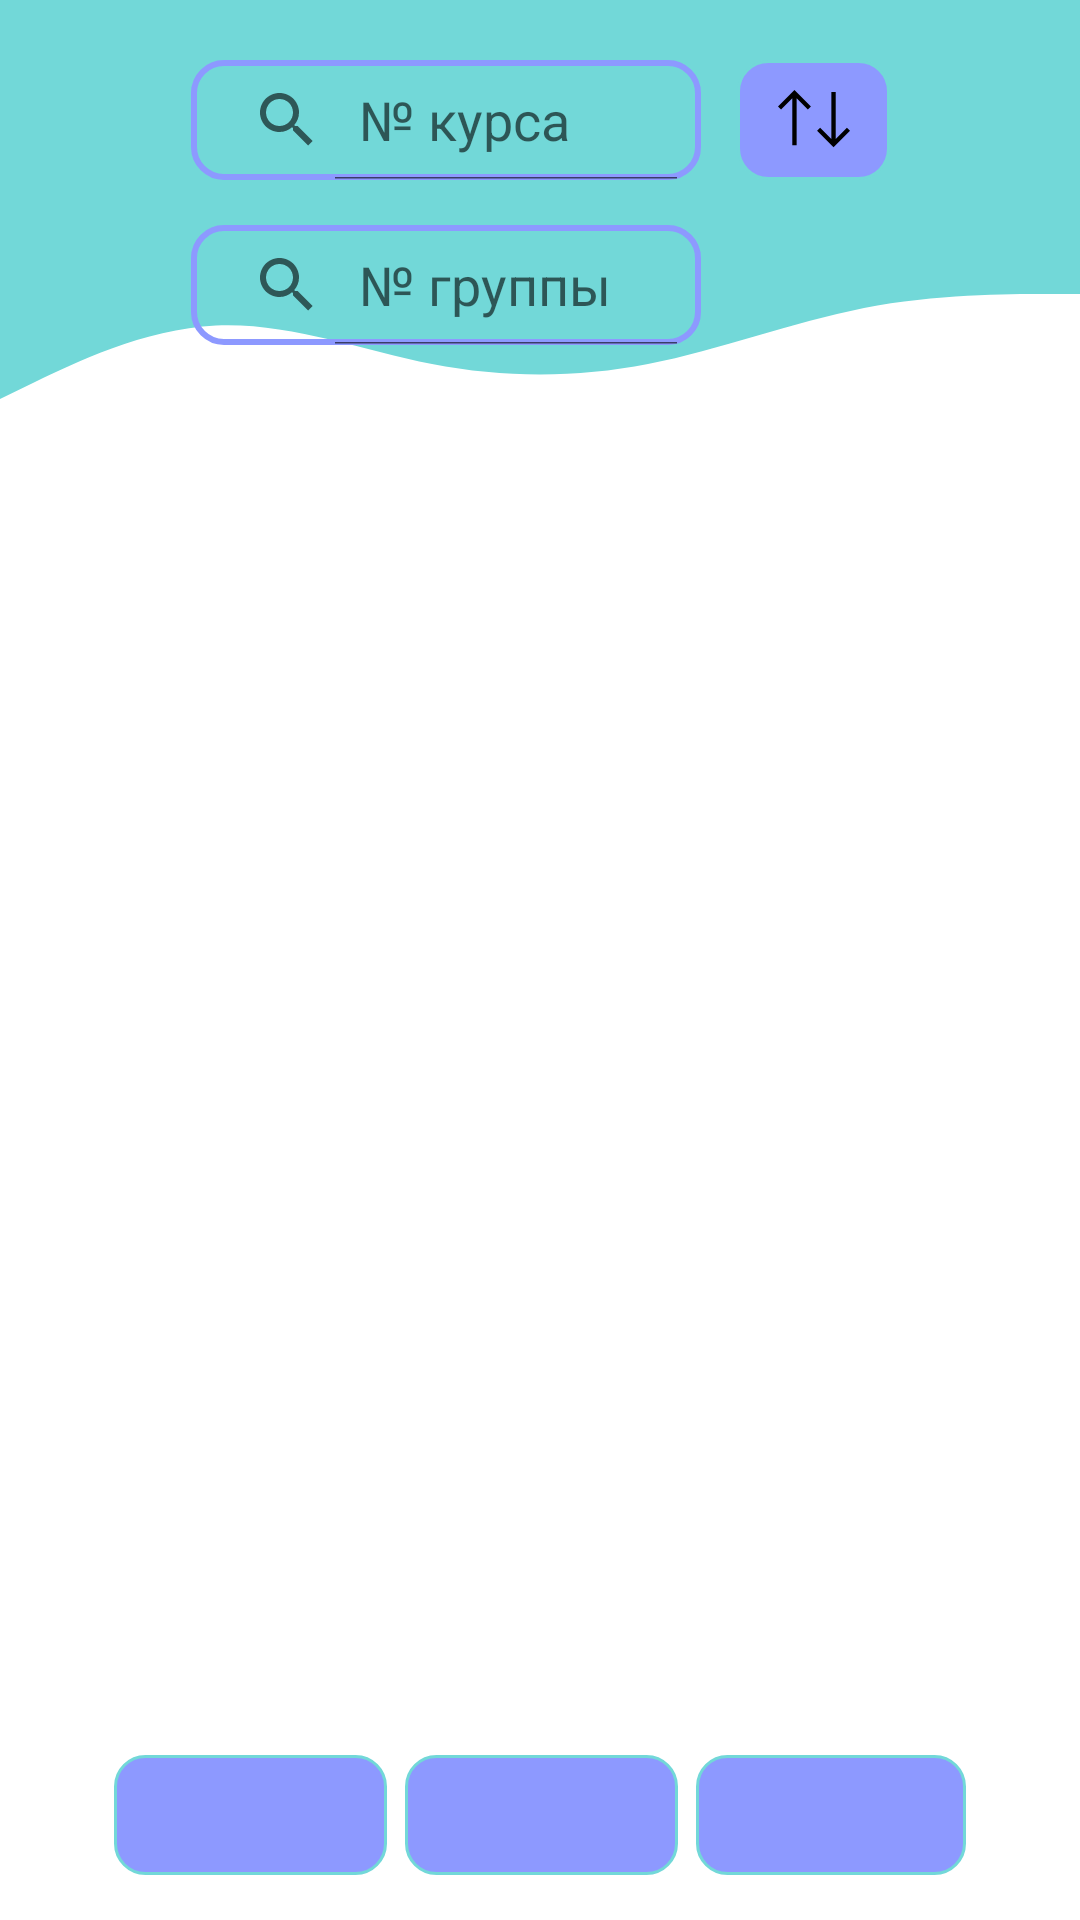

Point at icon controls on the screen. Image size 1080x1920, points as (x=x, y=y).
Сортировка по номеру курса: (x=813, y=120)
